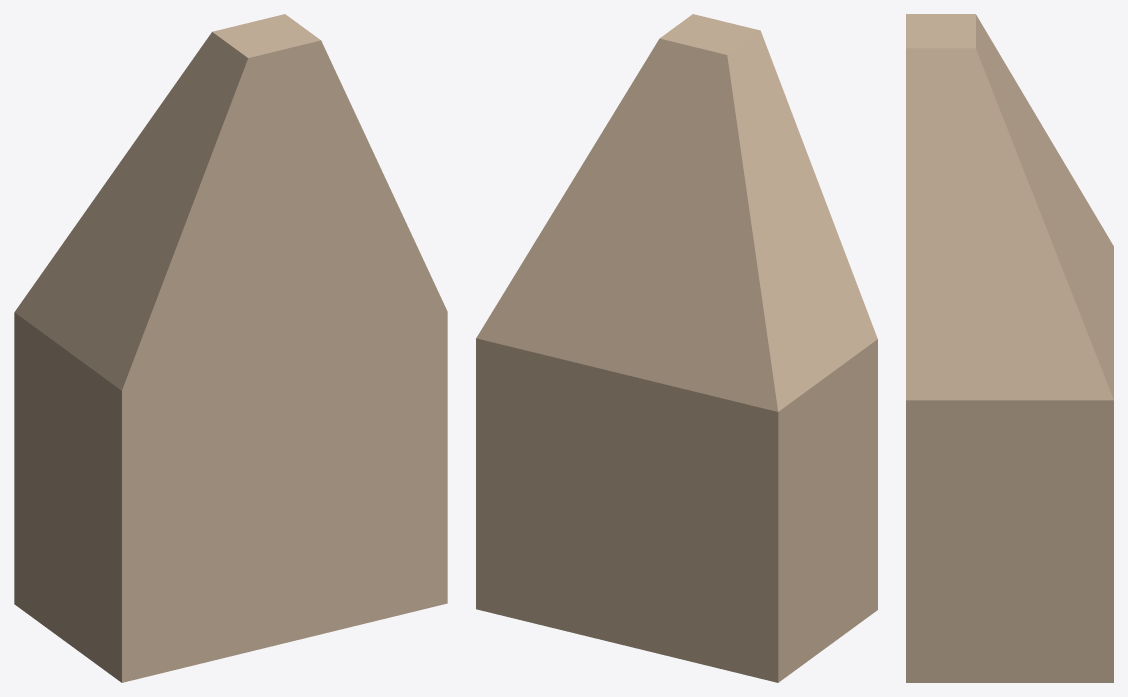
The model's file is rotanev_rcs_block_srf_2_collider.obj.
3 views of the same model, side by side, from view 1: azimuth 30°, elevation 25°; view 2: azimuth 150°, elevation 25°; view 3: azimuth 270°, elevation 25° (orthographic). The views are drawn at different scales.
Visible parts, largest first — view 1: collider; view 2: collider; view 3: collider.
Boxes of the visible parts, bbox=[...] form: collider: bbox=[14, 14, 447, 682]; collider: bbox=[476, 14, 877, 682]; collider: bbox=[906, 14, 1113, 682].
Size of the model in its own units: 0.875 by 1.52 by 0.5.
